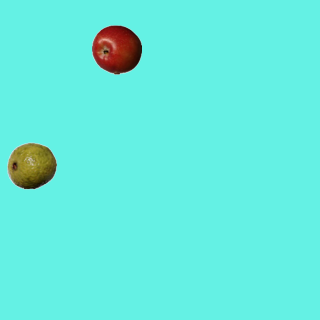Apple Braeburn: (91, 24, 141, 74)
Guava: (6, 140, 56, 190)
